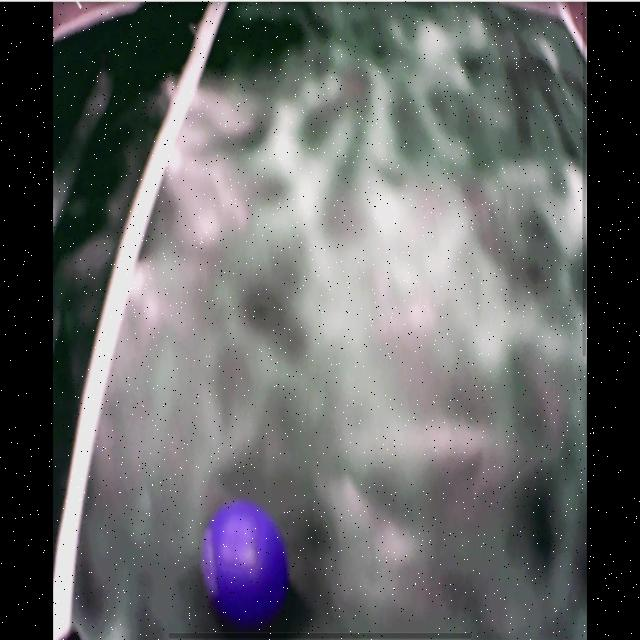ball: (200, 505, 290, 625)
